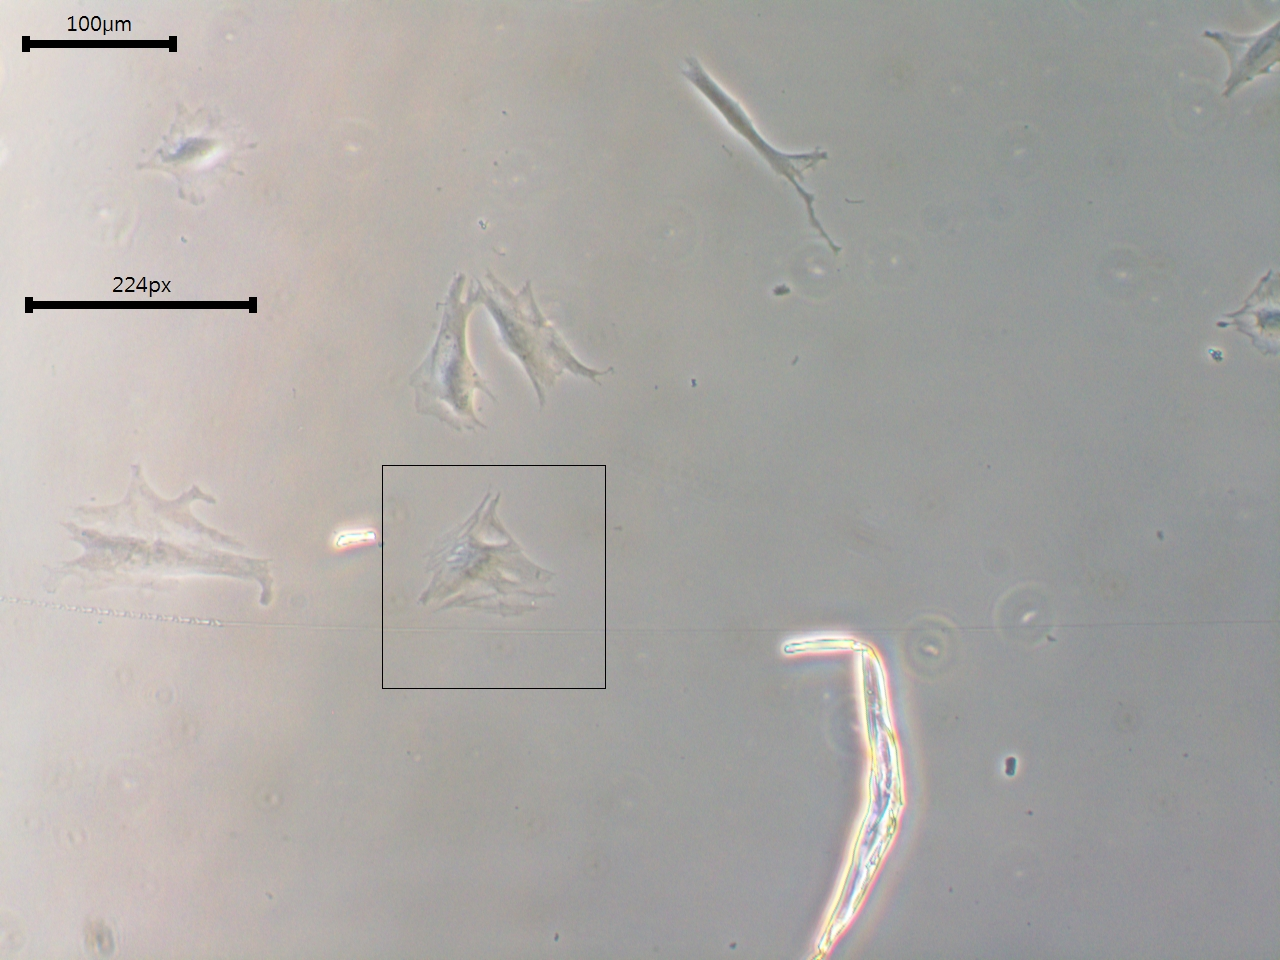medium-polygonal: (674, 44, 869, 260), (405, 262, 496, 442)
medium-spread: (50, 460, 281, 610), (401, 484, 586, 637)
